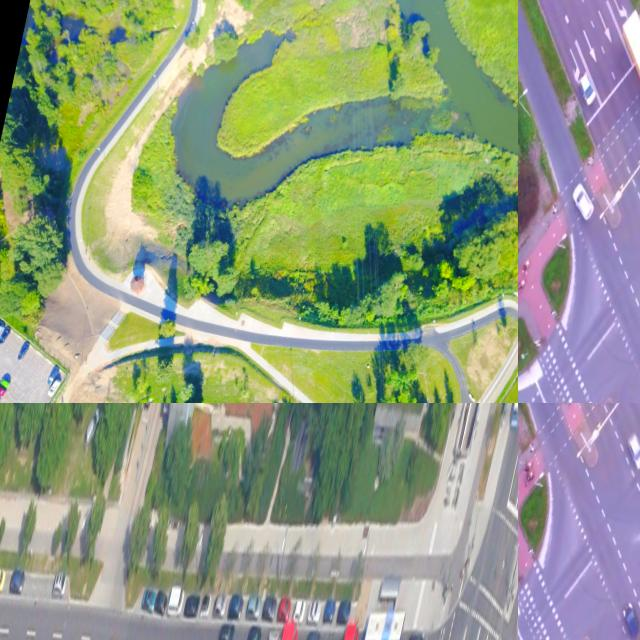UAI: (567, 181, 598, 223), (81, 404, 103, 453), (617, 598, 640, 640), (575, 72, 600, 107), (621, 430, 640, 472), (167, 582, 187, 617), (227, 590, 246, 622), (8, 567, 26, 596), (51, 569, 69, 598), (183, 592, 201, 620), (276, 595, 292, 624), (261, 596, 278, 623), (306, 598, 323, 625), (140, 586, 157, 612), (245, 593, 262, 619), (336, 598, 352, 625), (340, 620, 361, 640), (293, 596, 308, 624), (212, 592, 228, 618), (153, 588, 168, 615), (322, 598, 337, 625), (199, 591, 213, 619), (278, 622, 299, 640), (217, 621, 236, 640), (46, 377, 61, 399), (16, 340, 30, 363), (245, 624, 263, 640), (46, 368, 59, 387), (0, 325, 12, 345), (405, 628, 425, 640), (265, 626, 280, 640), (303, 629, 322, 640), (0, 565, 7, 592), (0, 377, 10, 388), (0, 322, 5, 341), (0, 384, 6, 396)
UAP: (603, 6, 640, 125)
car: (360, 603, 407, 640)
